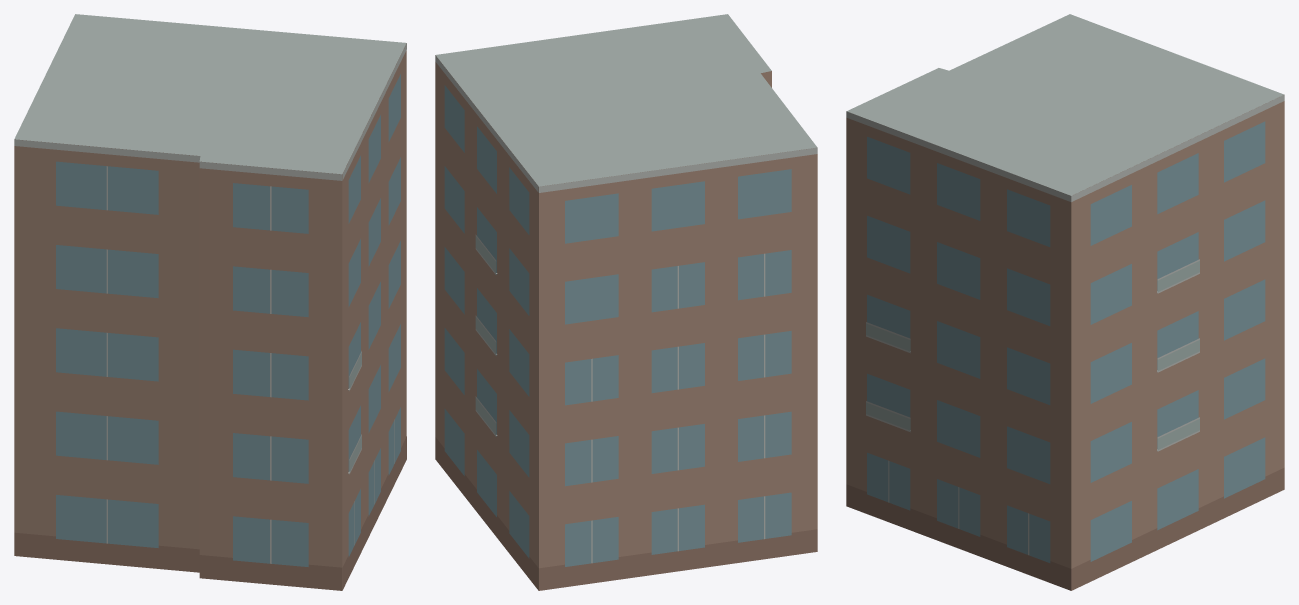
File: survey-upis-32534464.glb
The picture shows the model from 3 angles, left to right: view 1: azimuth 30°, elevation 25°; view 2: azimuth 150°, elevation 25°; view 3: azimuth 270°, elevation 25°; orthographic projection. The views are drawn at different scales.
Parts seen in each view (by area): view 1: survey-upis-32534464.tmp; view 2: survey-upis-32534464.tmp; view 3: survey-upis-32534464.tmp.
Part boxes in pixels (x1,y1,x2,y2): survey-upis-32534464.tmp: [14, 14, 406, 590]; survey-upis-32534464.tmp: [435, 14, 817, 590]; survey-upis-32534464.tmp: [846, 14, 1284, 590].
Bounding box in the file's own units: 15.07 × 15.25 × 15.34.
